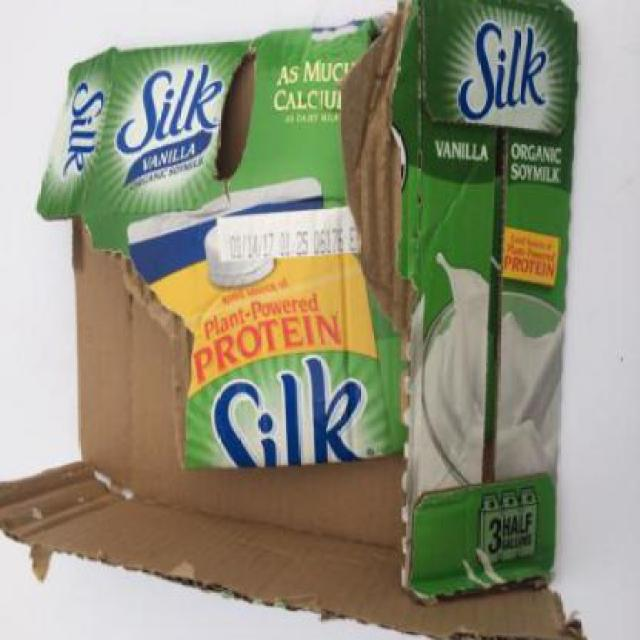box: (1, 0, 588, 640)
